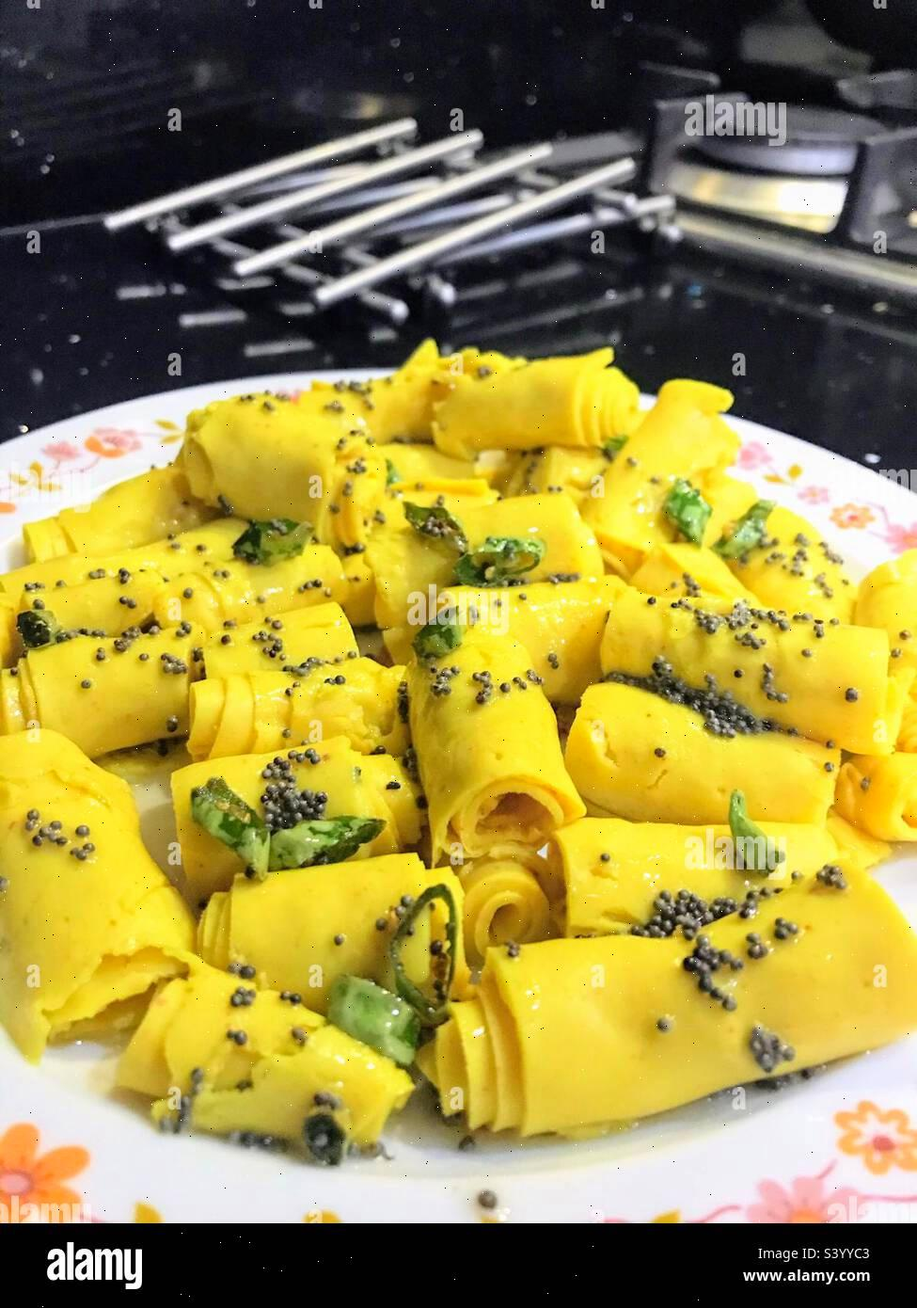khandvi: (3, 375, 917, 1191)
